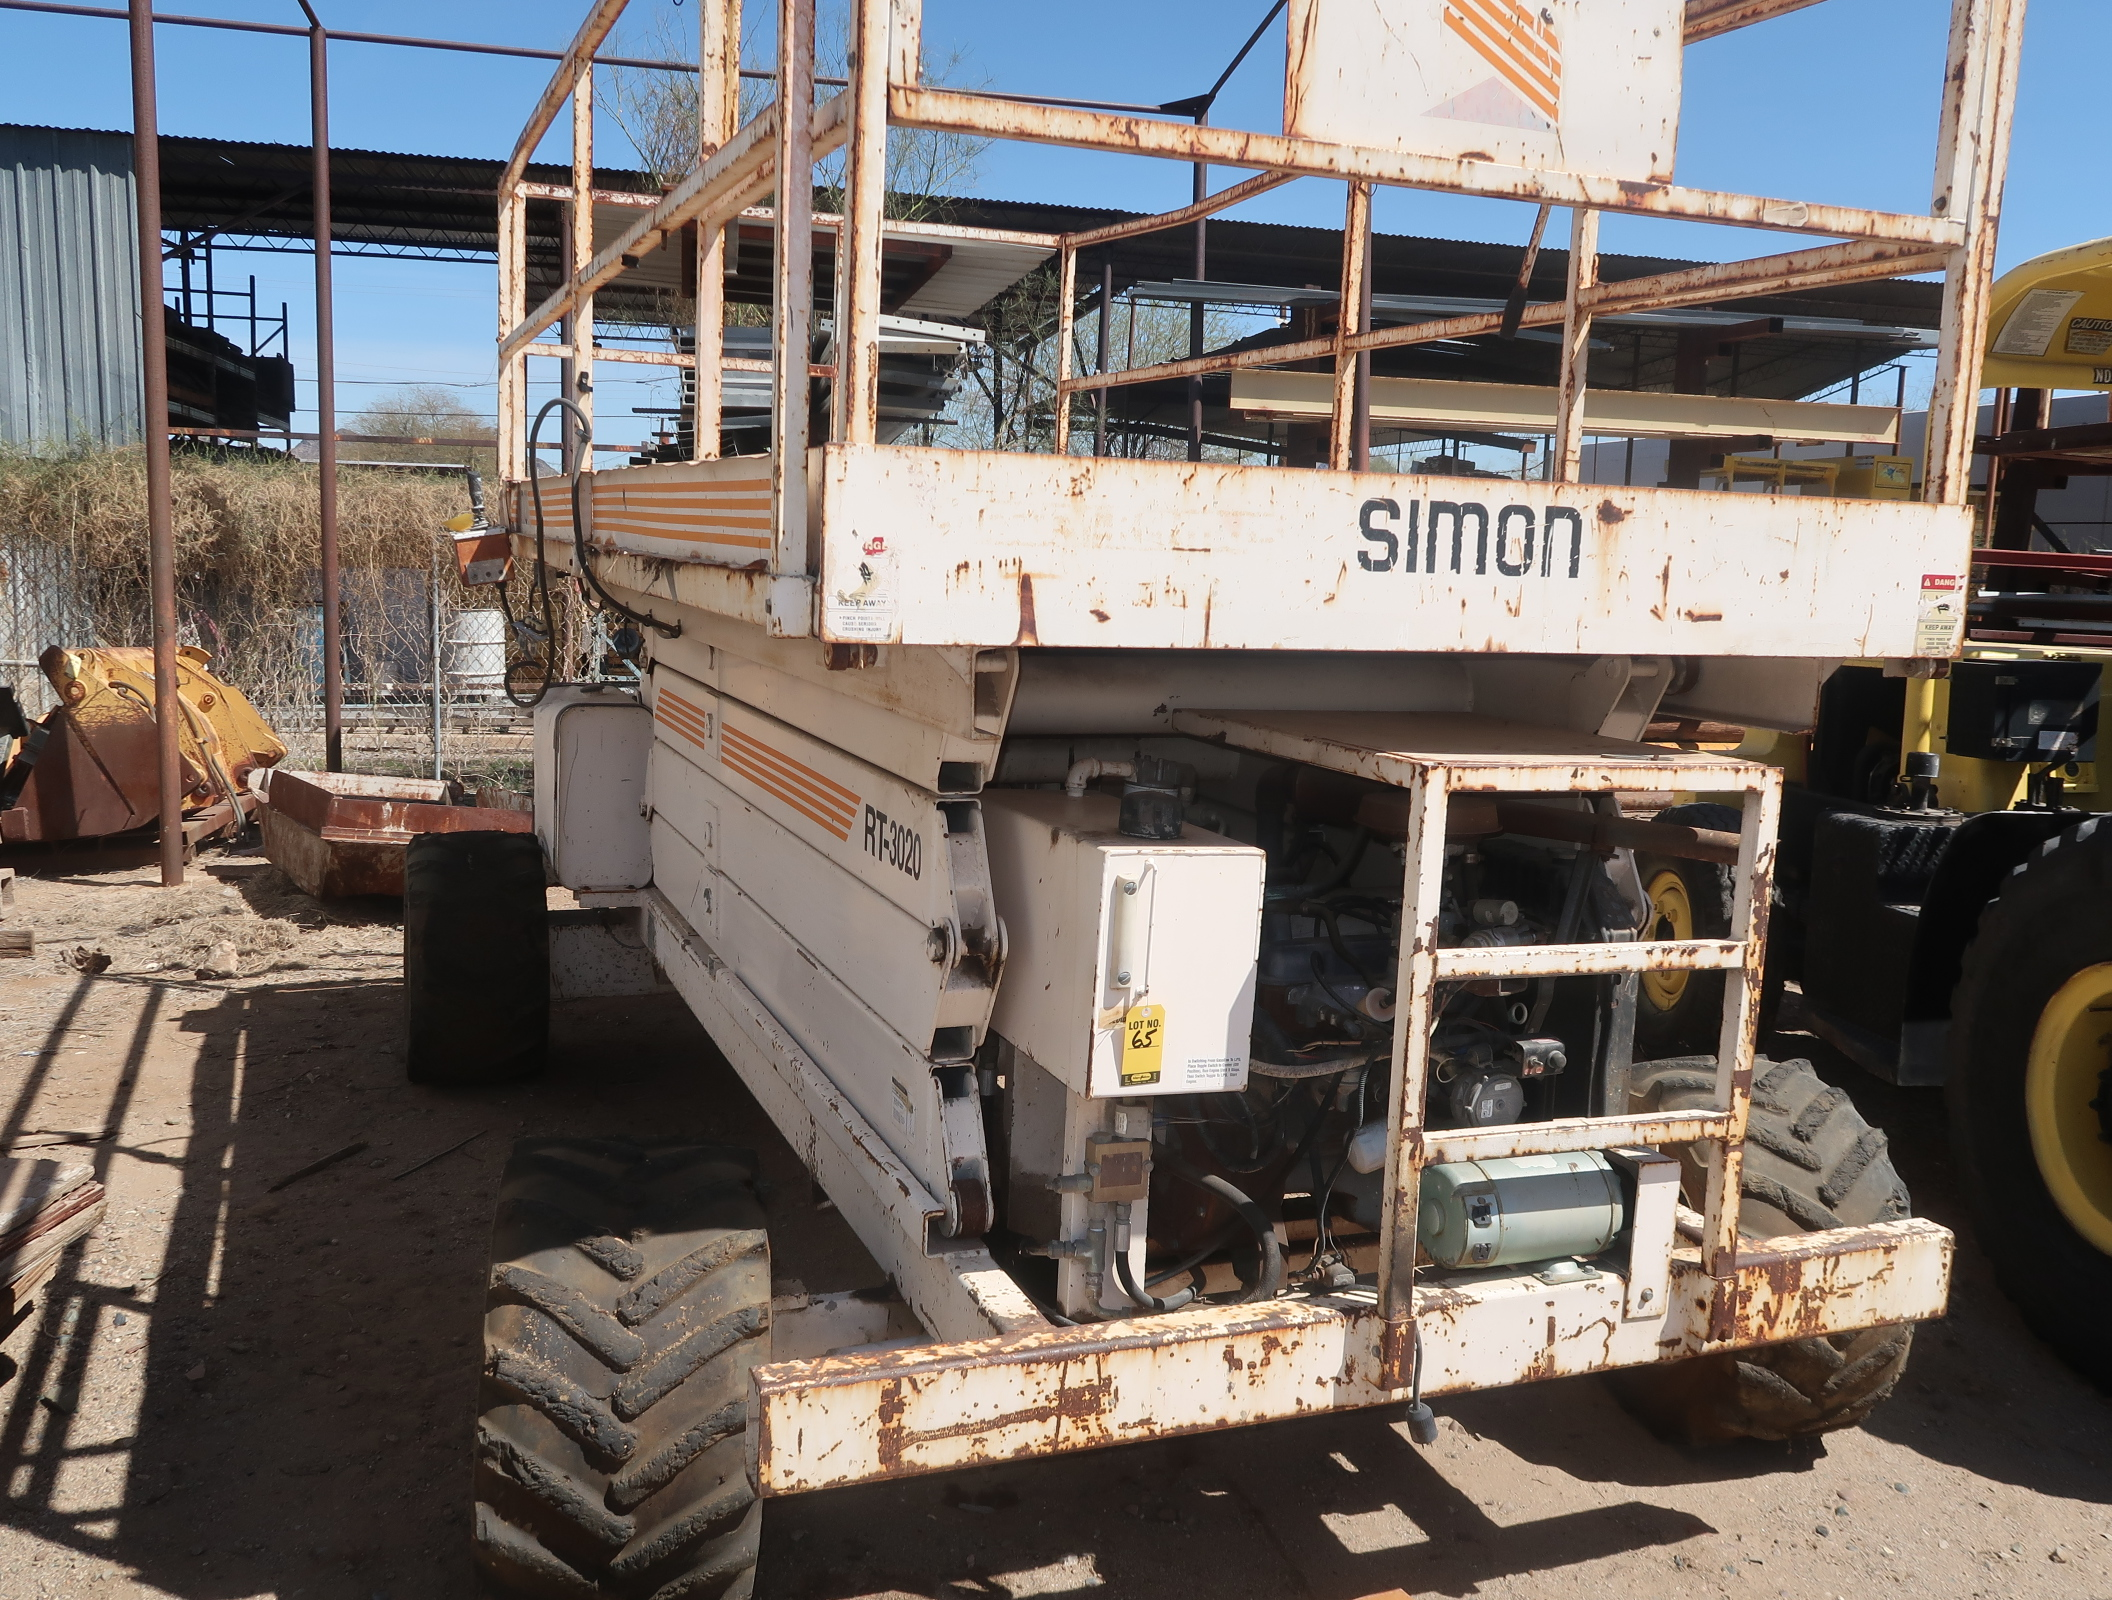rust: (850, 1360, 1136, 1466), (1699, 1255, 1867, 1345), (1631, 269, 1887, 319)
